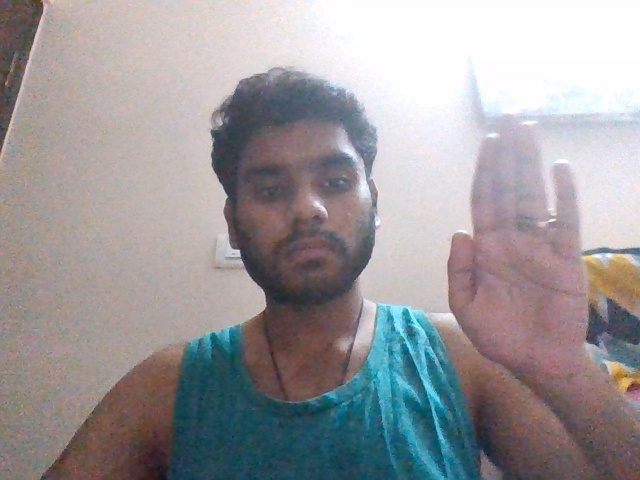hello: (439, 108, 599, 373)
